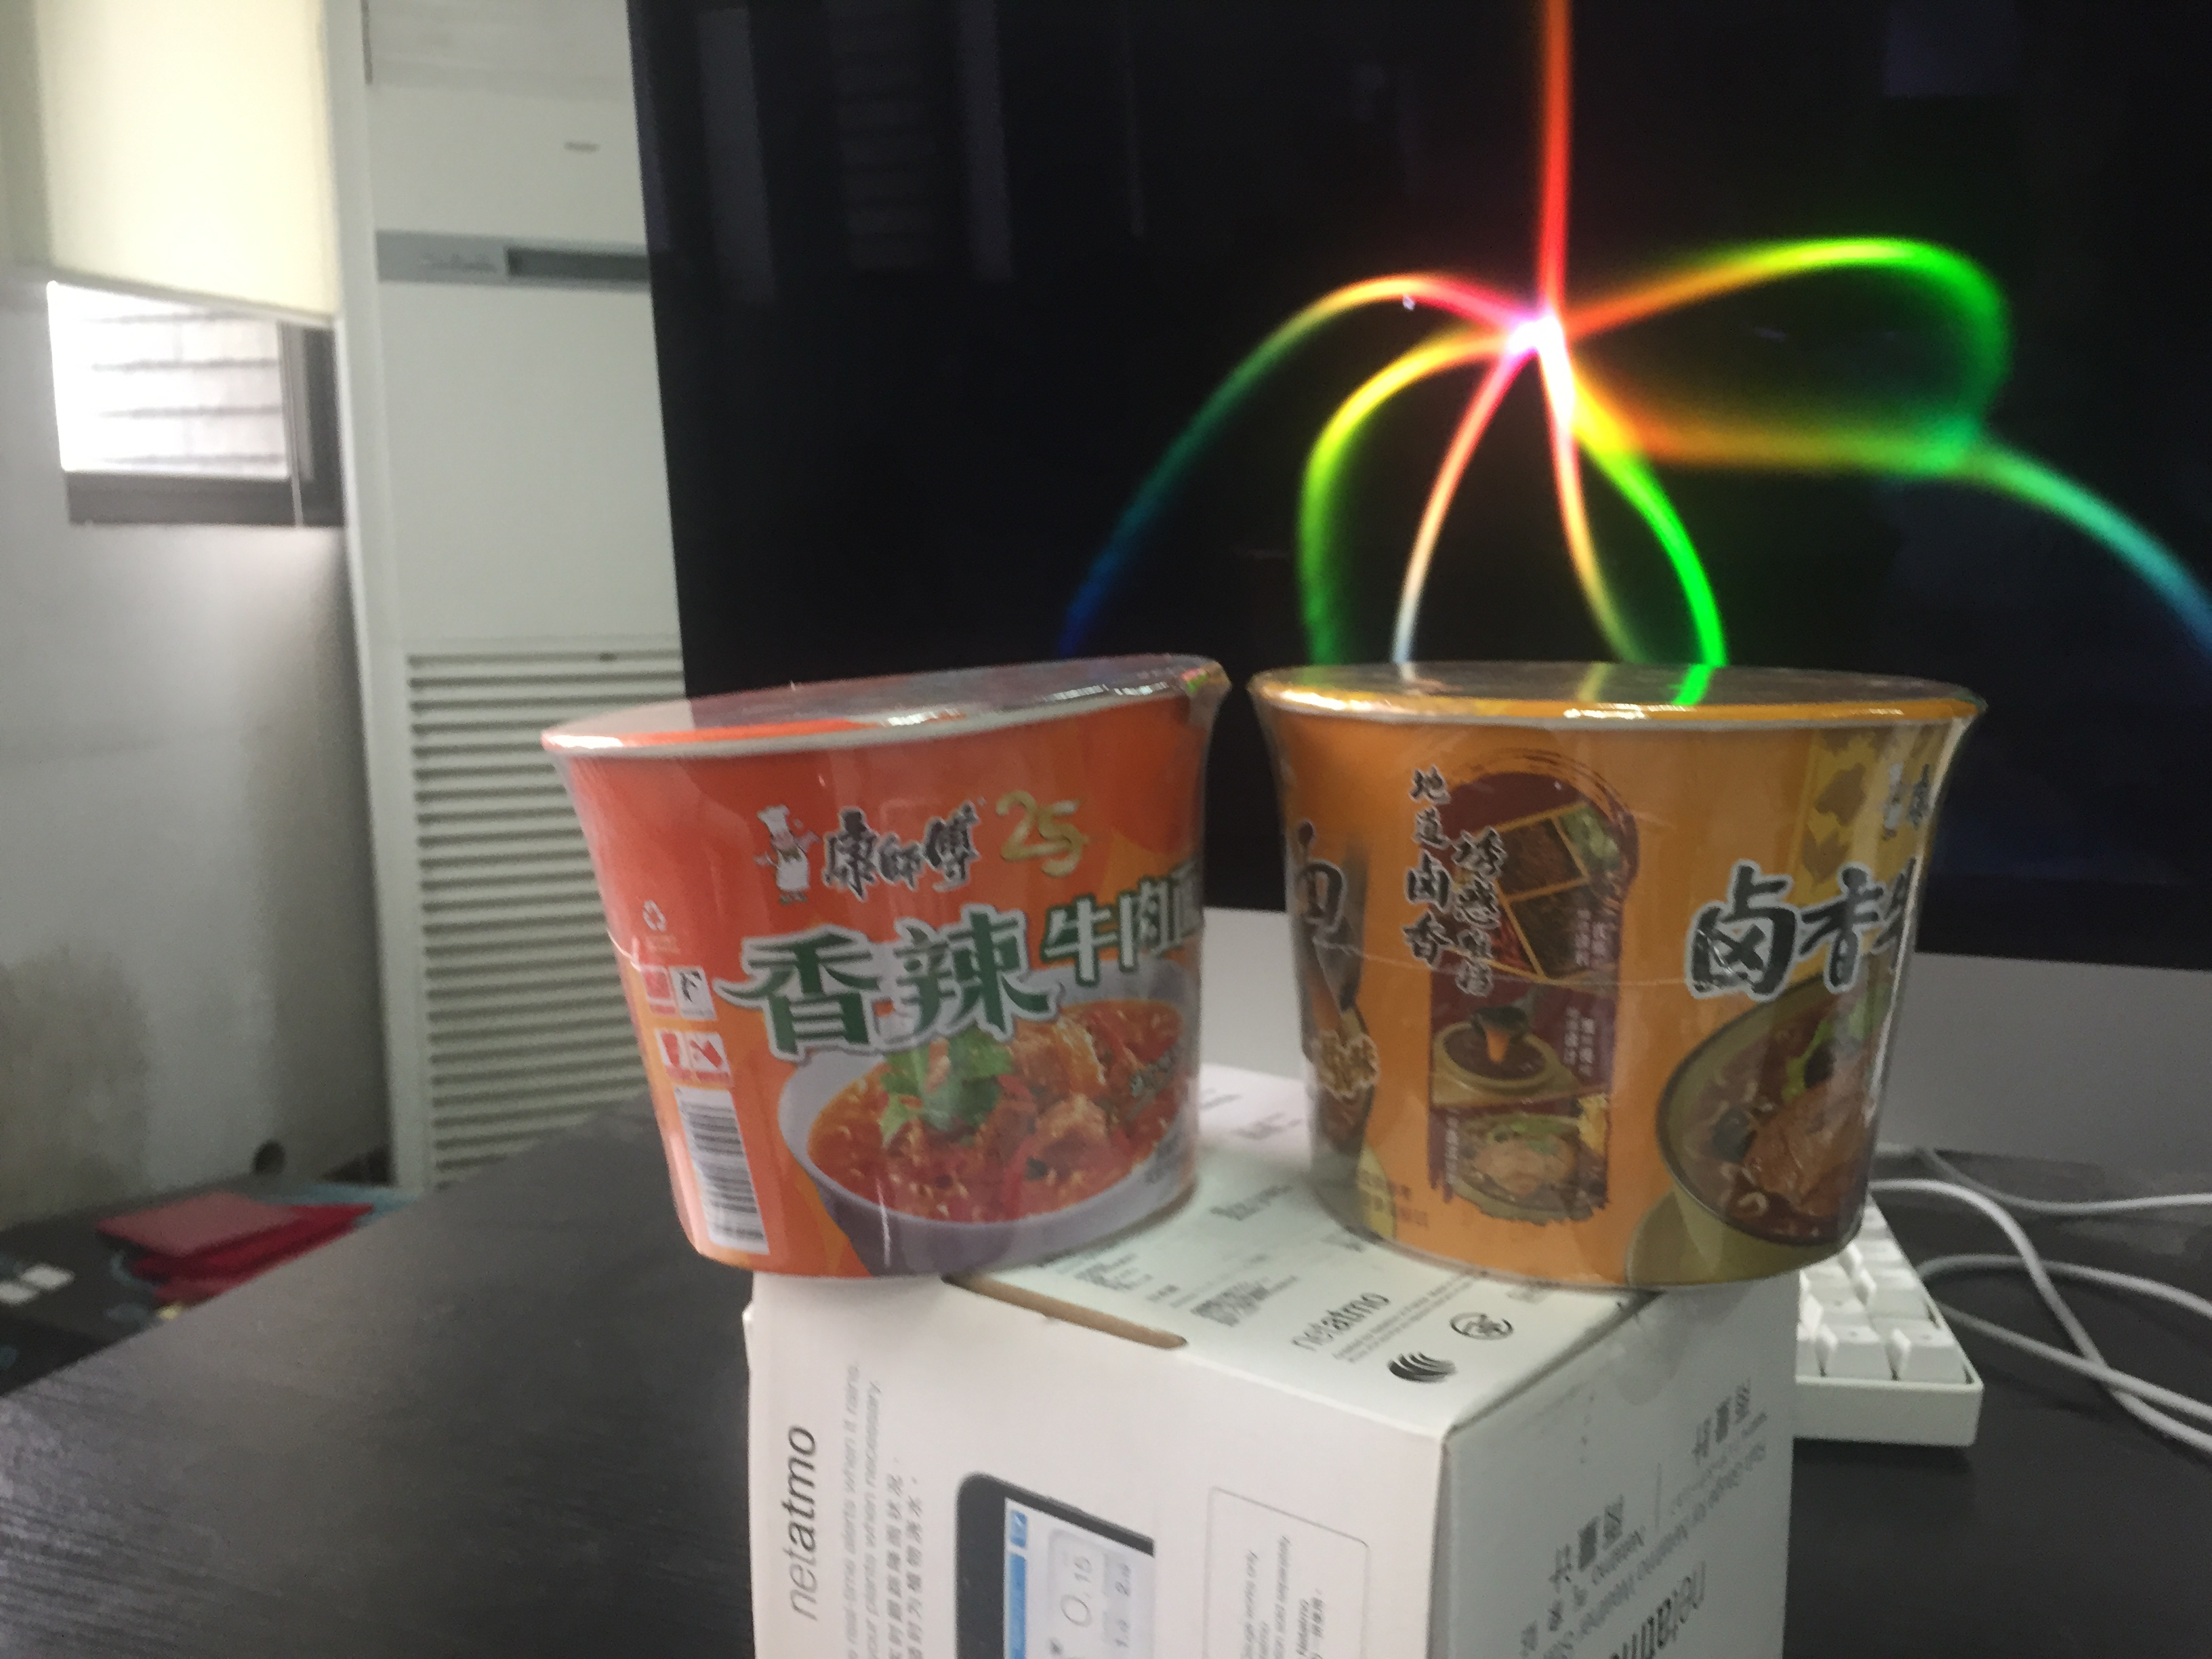luxiang: (1247, 659, 1989, 1293)
xiangla: (538, 652, 1231, 1281)
